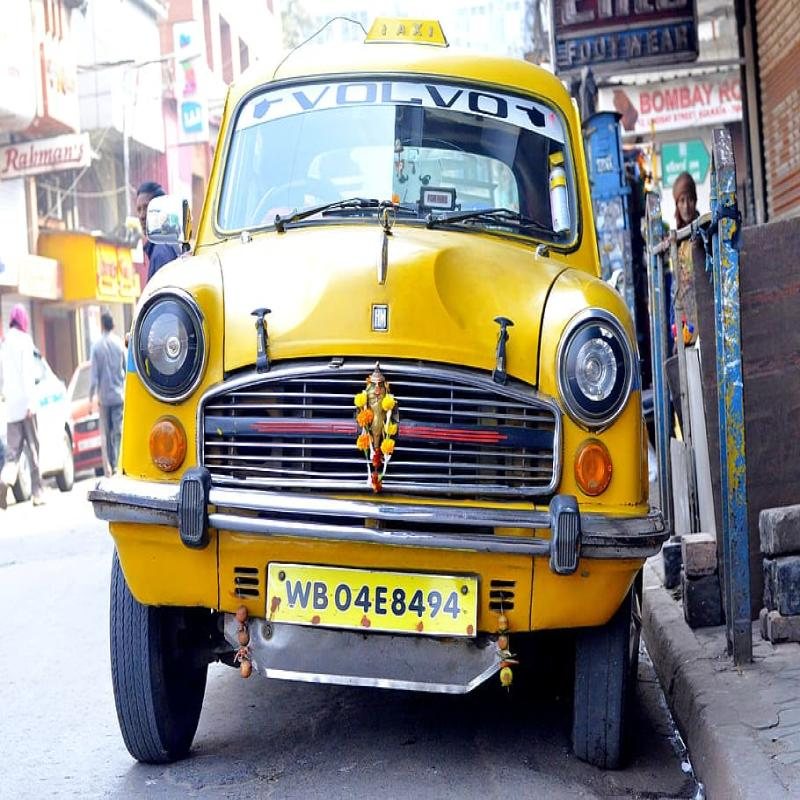car: (111, 8, 644, 768)
